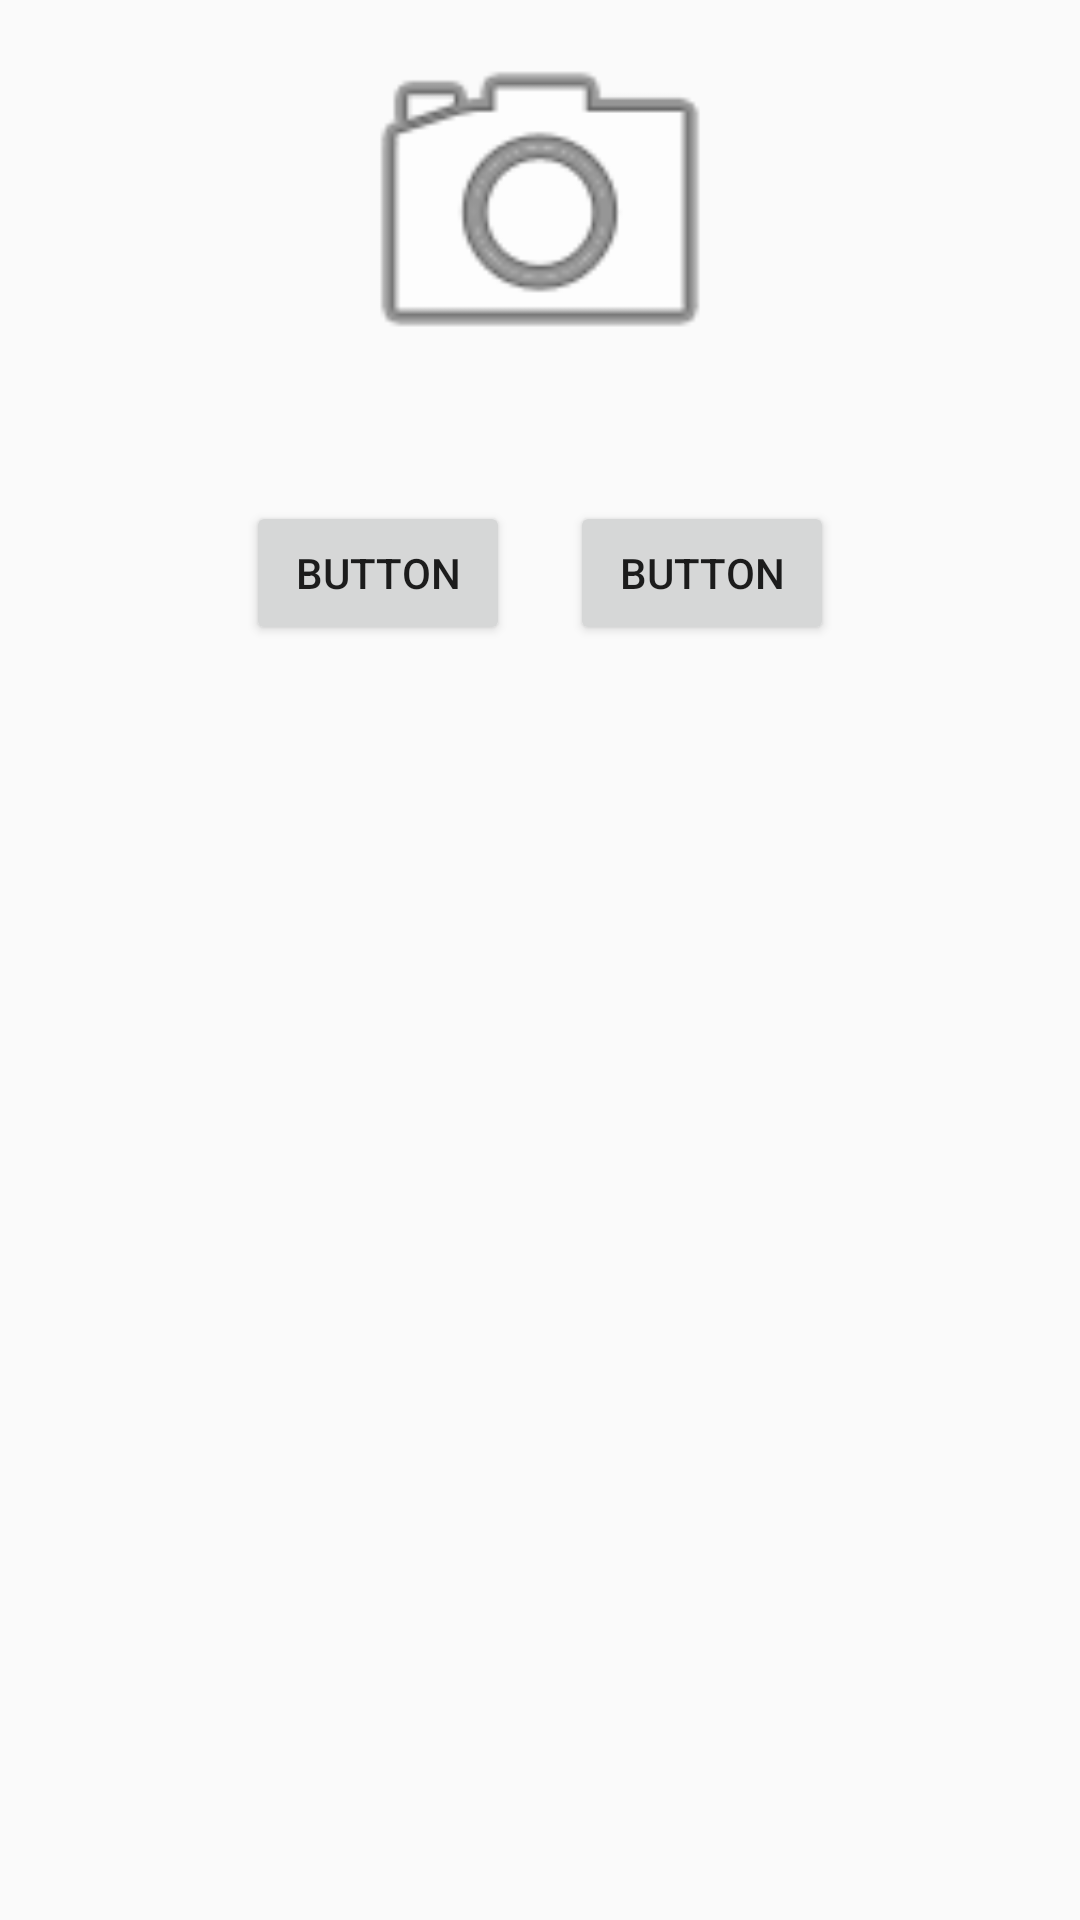

Named icons in this screenshot (1080x1920) and their centers, (x,y):
camera: (540,199)
